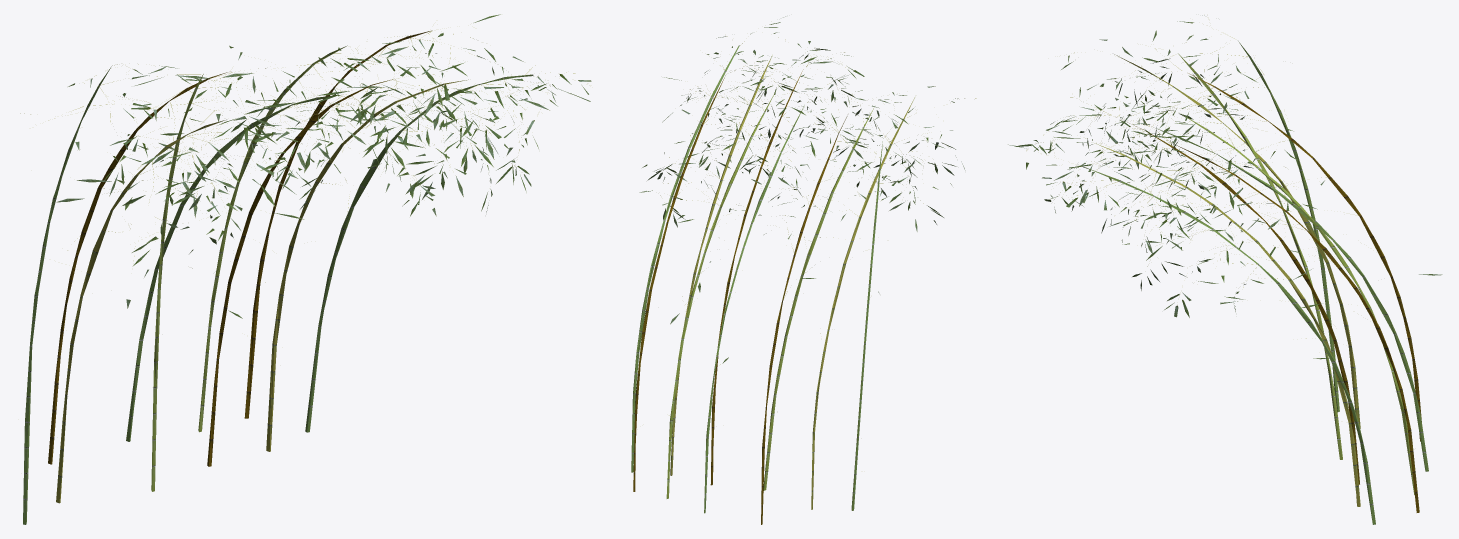
The model's file is sh-scopia-bamboo.glb.
3 views of the same model, side by side, from view 1: azimuth 30°, elevation 25°; view 2: azimuth 150°, elevation 25°; view 3: azimuth 270°, elevation 25° (orthographic). The views are drawn at different scales.
Visible parts, largest first — view 1: Trunk, Leaves; view 2: Trunk, Leaves; view 3: Trunk, Leaves.
Boxes of the visible parts, x1=… form: Trunk: x1=23, y1=30, x2=533, y2=524; Leaves: x1=20, y1=14, x2=591, y2=318; Trunk: x1=631, y1=45, x2=914, y2=524; Leaves: x1=639, y1=16, x2=976, y2=415; Trunk: x1=1082, y1=41, x2=1428, y2=524; Leaves: x1=1008, y1=15, x2=1442, y2=408.
Size of the model in its own units: 0.9222 by 0.9907 by 0.9965.
2 materials, 2 textured.
